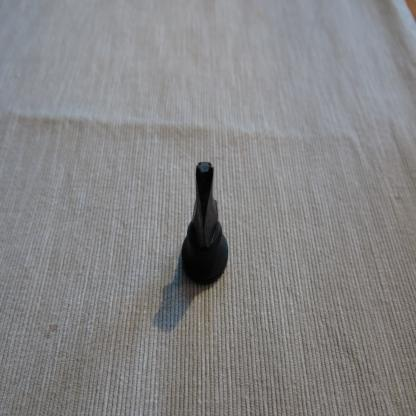black-knight: (179, 160, 230, 286)
